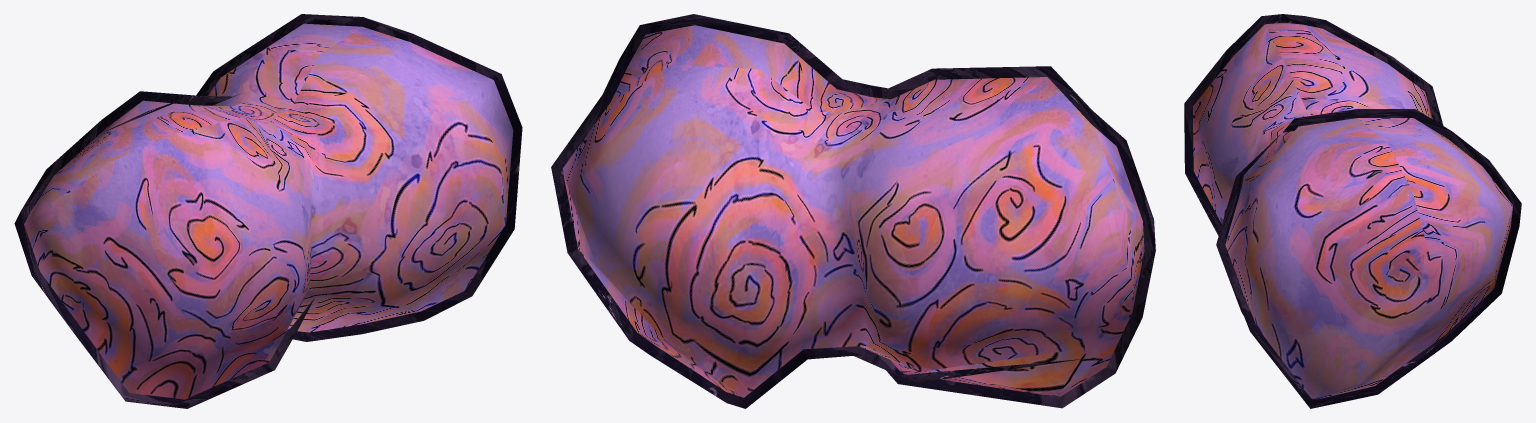
The model's file is polygonalmind-momuspark-003.glb.
The picture shows the model from 3 angles, left to right: view 1: azimuth 30°, elevation 25°; view 2: azimuth 150°, elevation 25°; view 3: azimuth 270°, elevation 25°; orthographic projection. The views are drawn at different scales.
Parts seen in each view (by area): view 1: Bush_01_Art; view 2: Bush_01_Art; view 3: Bush_01_Art.
Part boxes in pixels (bbox=[...]): Bush_01_Art: bbox=[14, 14, 522, 408]; Bush_01_Art: bbox=[551, 14, 1155, 408]; Bush_01_Art: bbox=[1184, 14, 1521, 408].
Size of what is drawn, in the model's own units: 2.4 by 1.36 by 1.59.
Materials: 2 (2 with a texture image).
